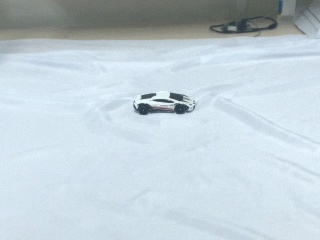toy_car: (133, 91, 196, 115)
